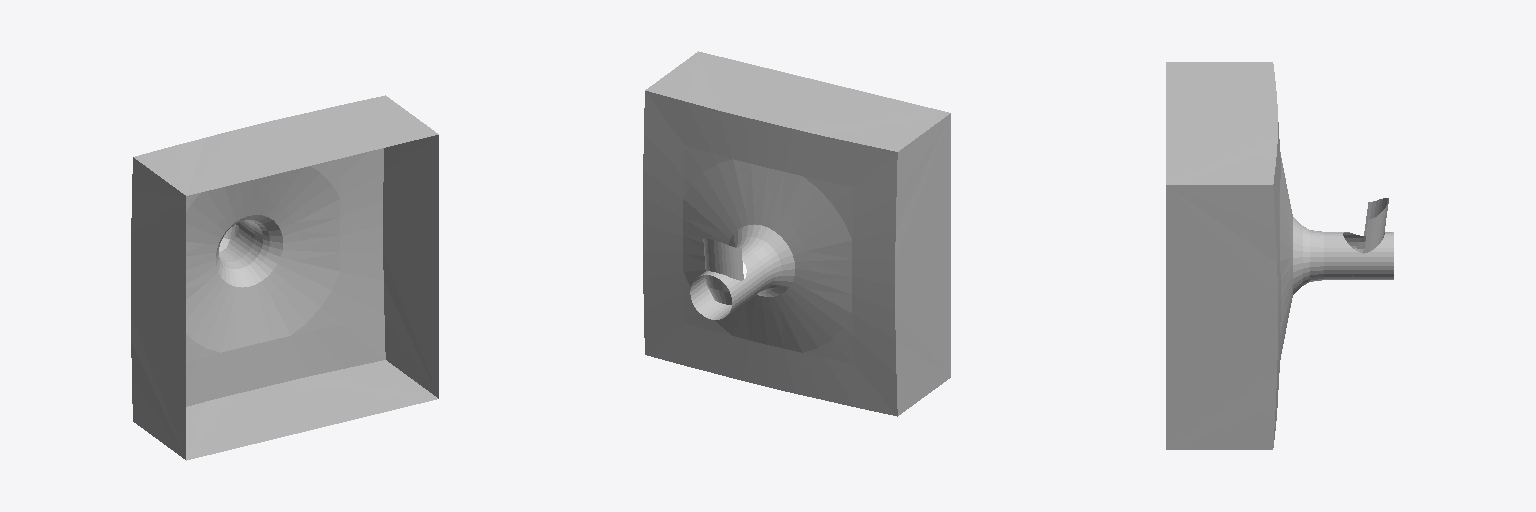
File: box_out_bis.obj
3 views of the same model, side by side, from view 1: azimuth 30°, elevation 25°; view 2: azimuth 150°, elevation 25°; view 3: azimuth 270°, elevation 25° (orthographic).
Parts seen in each view (by area): view 1: box_Circle.003; view 2: box_Circle.003; view 3: box_Circle.003.
Boxes of the visible parts, <box> form: box_Circle.003: <box>131,95,438,460</box>; box_Circle.003: <box>643,51,950,416</box>; box_Circle.003: <box>1166,62,1393,449</box>.
Bounding box in the file's own units: 14.02 × 14.02 × 10.91.